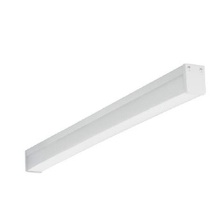light_bulb: (27, 72, 205, 174)
